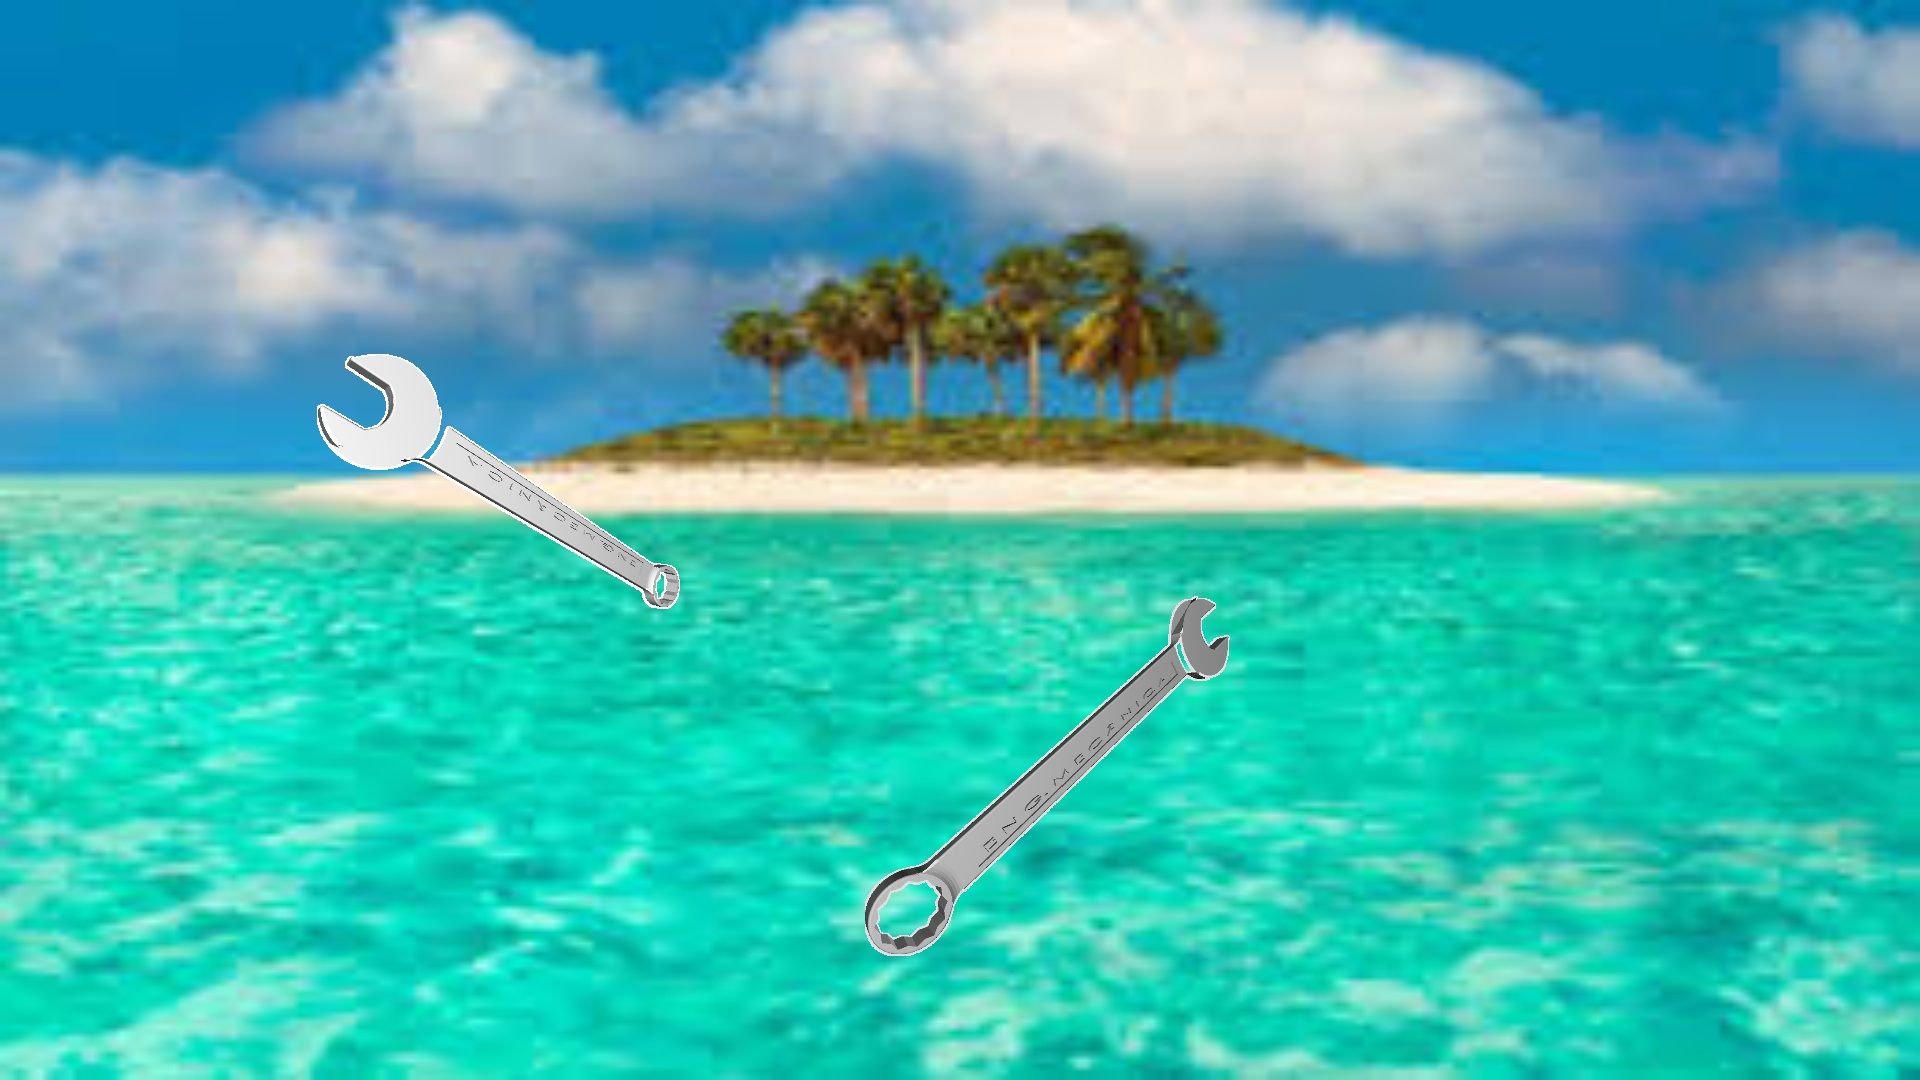Mixed Key: (865, 596, 1229, 955), (316, 353, 679, 608)
